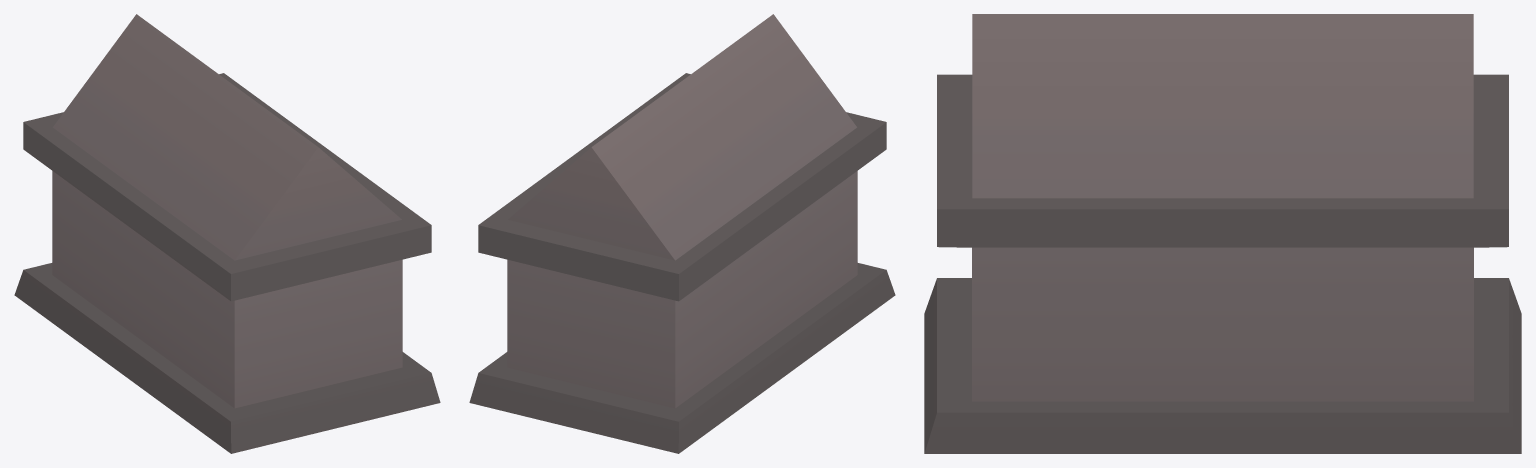
File: village_town_tomb.glb
3 renders of one model, left to right at view 1: azimuth 30°, elevation 25°; view 2: azimuth 150°, elevation 25°; view 3: azimuth 270°, elevation 25°, orthographic. The views are drawn at different scales.
Parts seen in each view (by area): view 1: Tomb.001_Material.005_0; view 2: Tomb.001_Material.005_0; view 3: Tomb.001_Material.005_0.
Part boxes in pixels (x1,y1,x2,y2): Tomb.001_Material.005_0: (14, 14, 440, 453); Tomb.001_Material.005_0: (469, 14, 895, 453); Tomb.001_Material.005_0: (924, 14, 1521, 453).
Bounding box in the file's own units: 1.01 × 1.23 × 1.8.
1 material, 1 textured.
